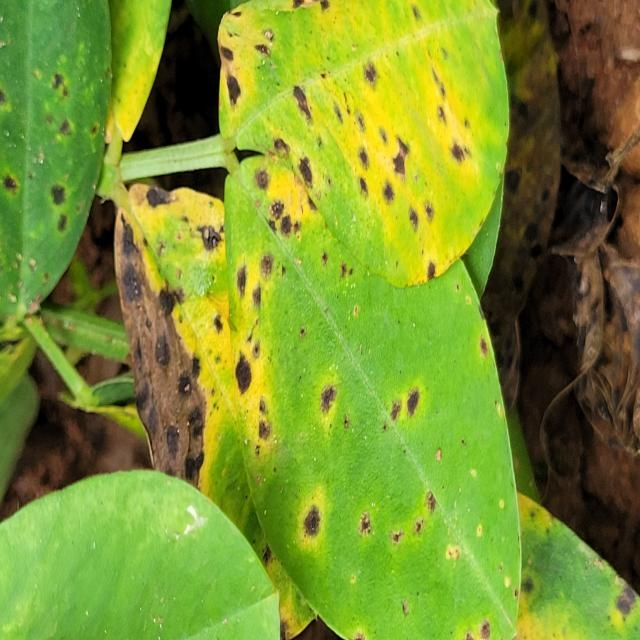Ground nut_tikka leaf spot: (224, 147, 523, 639), (217, 0, 512, 284), (112, 174, 286, 570)
